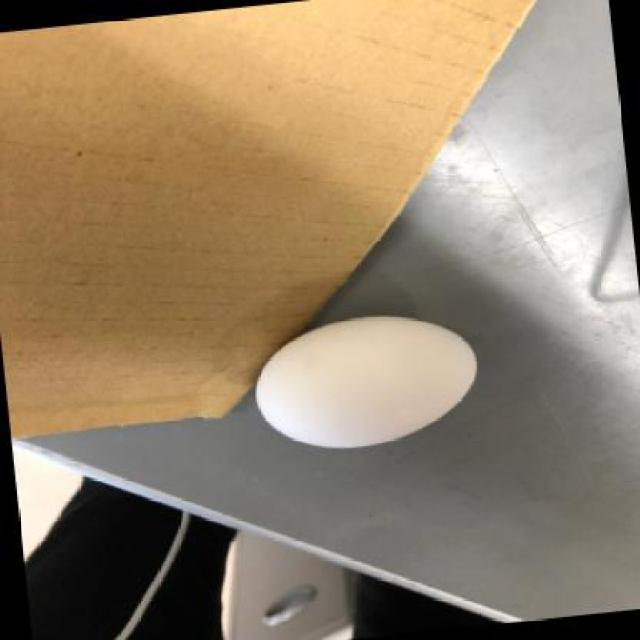egg: (249, 312, 486, 453)
